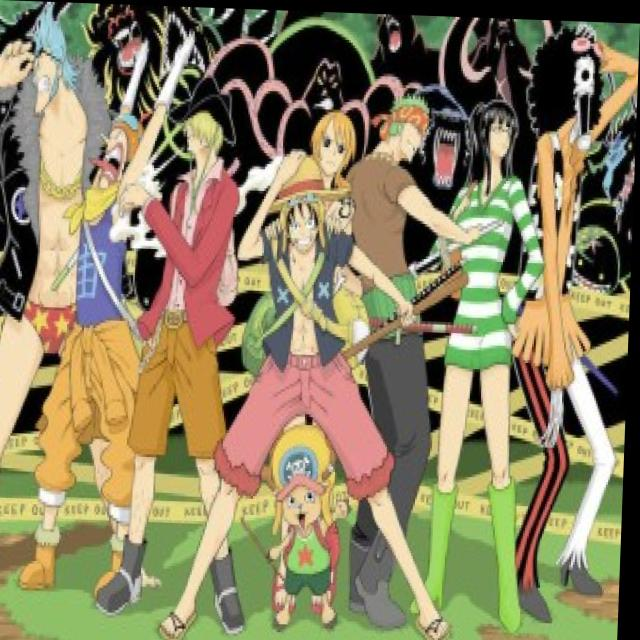Blook: (558, 22, 611, 152)
Chyopa: (247, 410, 350, 640)
Franky: (20, 1, 88, 133)
Luffy: (253, 156, 353, 259)
Nami: (308, 101, 364, 175)
NicoRobin: (465, 95, 526, 183)
Sangdi: (177, 102, 233, 164)
Usopp: (81, 101, 148, 208)
Zoro: (375, 88, 434, 170)
